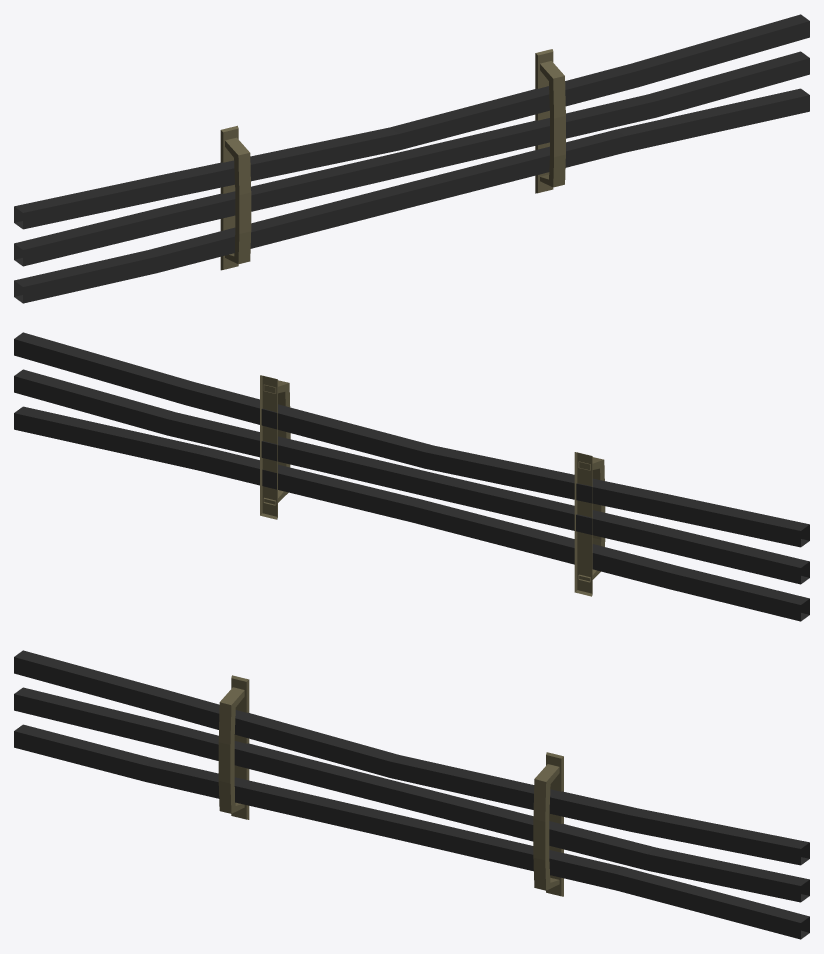
Rendered from SW_ENV_Wires3_StationWall_2m.fbx.
3 views of the same model, one above another, from view 1: azimuth 30°, elevation 25°; view 2: azimuth 150°, elevation 25°; view 3: azimuth 330°, elevation 25° (orthographic).
Parts seen in each view (by area): view 1: SW_ENV_Wires3_StationWall_2m; view 2: SW_ENV_Wires3_StationWall_2m; view 3: SW_ENV_Wires3_StationWall_2m.
Boxes of the visible parts, x1,y1,x2,y2 form: SW_ENV_Wires3_StationWall_2m: (14,14,809,303); SW_ENV_Wires3_StationWall_2m: (14,332,809,621); SW_ENV_Wires3_StationWall_2m: (14,650,809,939).
Bounding box in the file's own units: 200 × 34.12 × 7.06.
